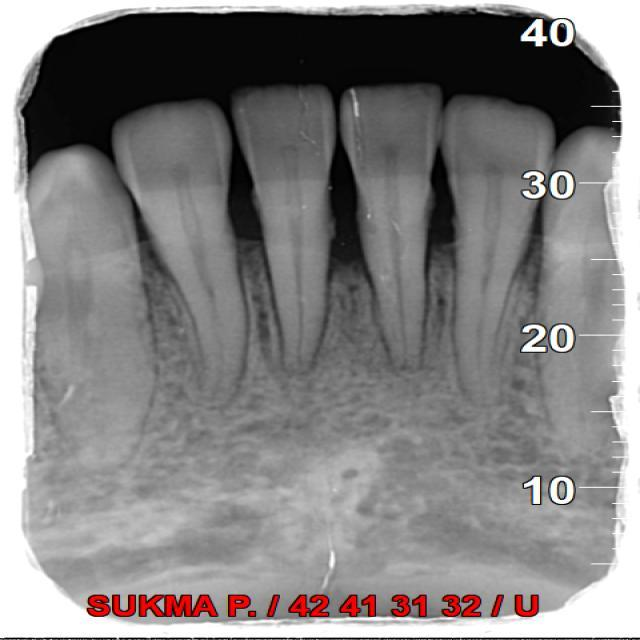individual-tooth-8tto: (116, 102, 246, 406), (440, 93, 553, 404), (335, 79, 439, 369), (232, 86, 332, 368)
